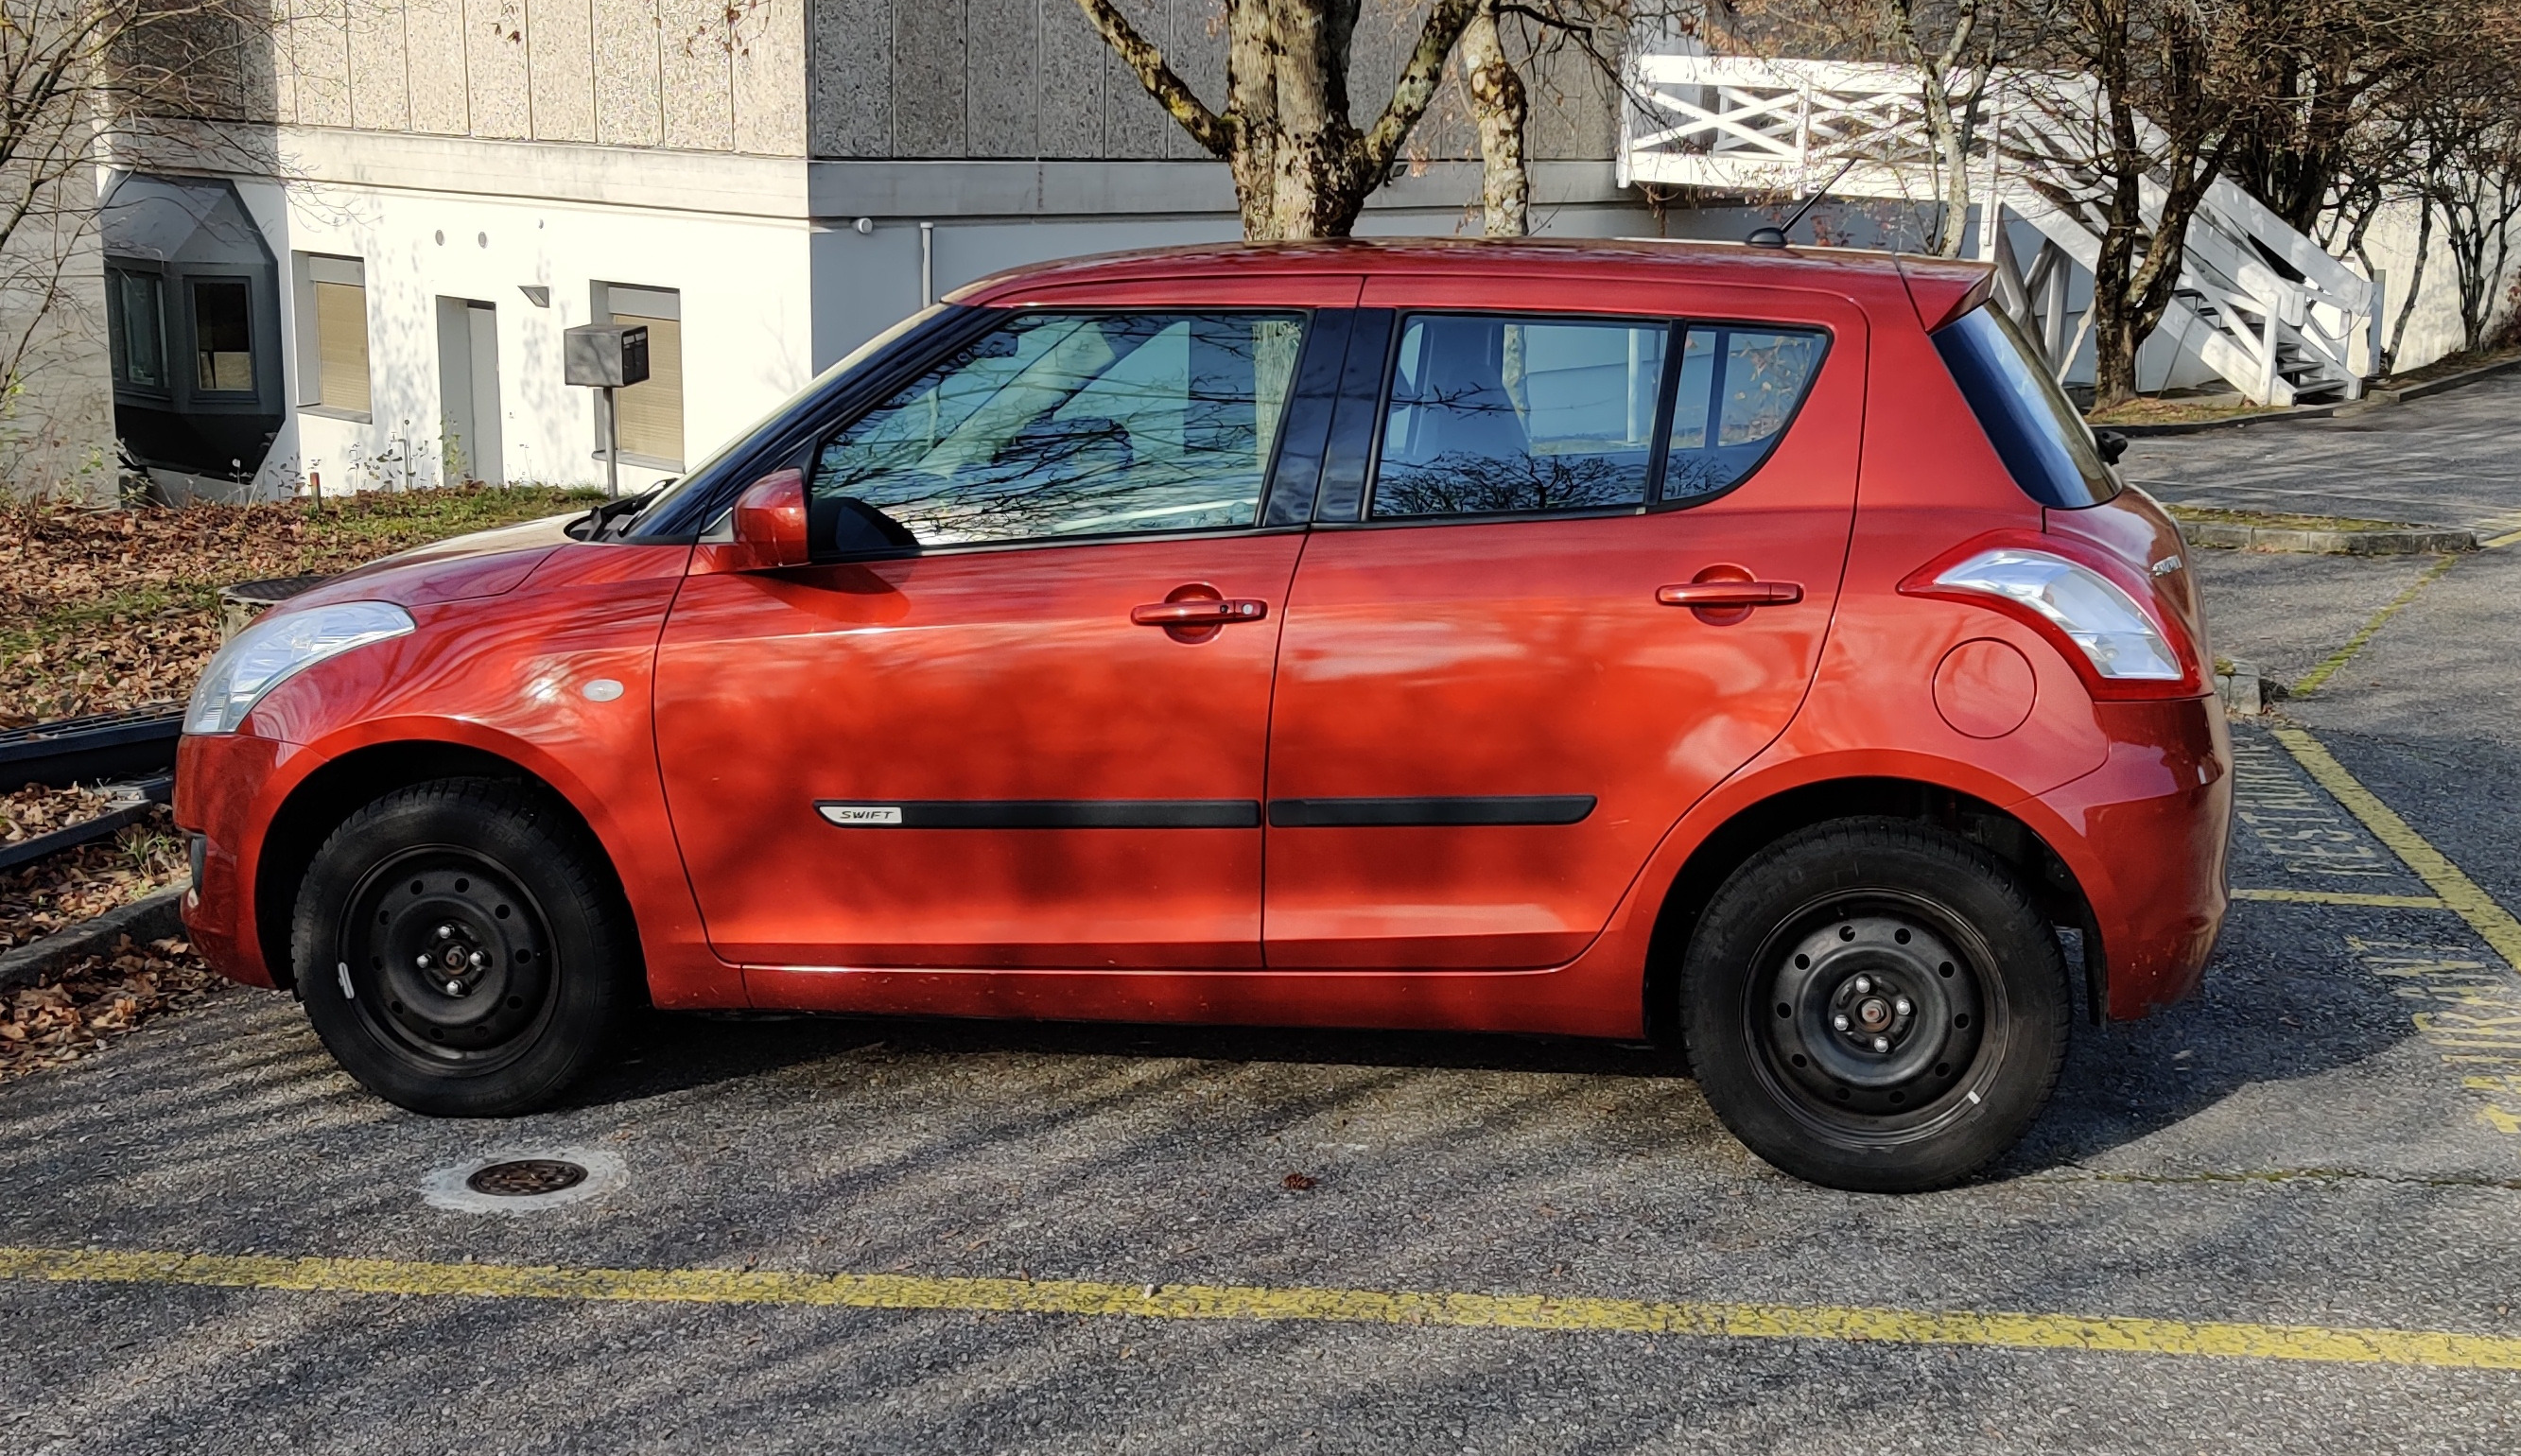mobil: (156, 225, 2242, 1199)
